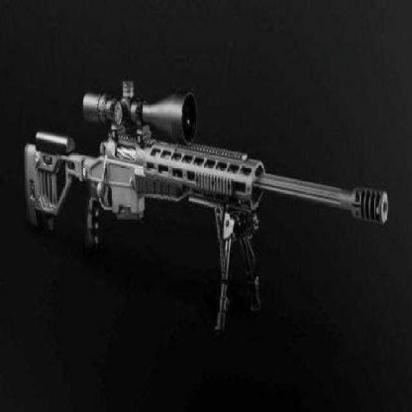Gun: (19, 88, 386, 333)
